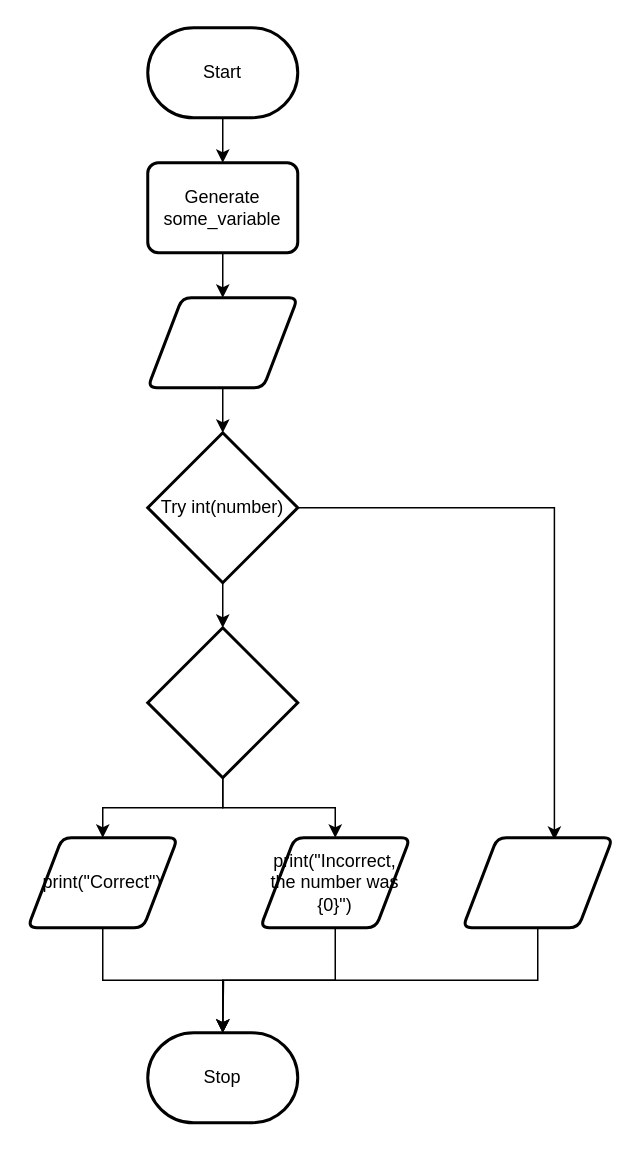
Some shapes in this 639 by 1149 pixel diagram are drawn without their labels. The centre of each missing label's shape, as x and y in pixels:
Get number: (x=222, y=342)
if number = some_variable: (x=222, y=702)
print("{0} is not an integer"): (x=537, y=882)
